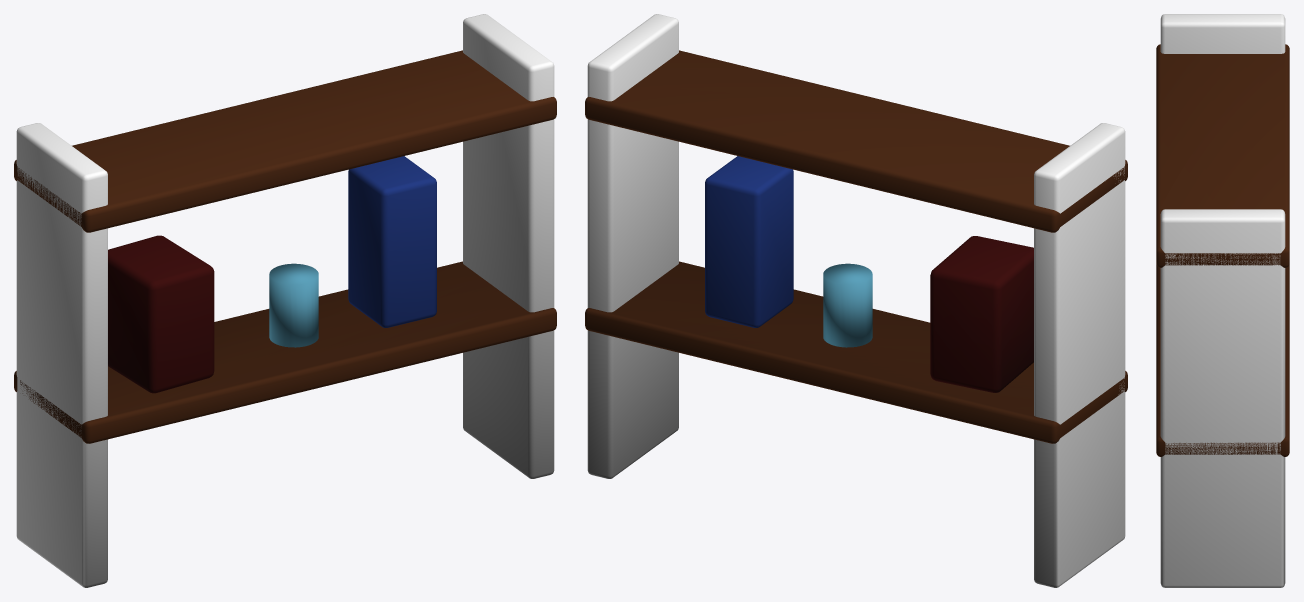
File: wooden-shelf.obj
3 views of the same model, side by side, from view 1: azimuth 30°, elevation 25°; view 2: azimuth 150°, elevation 25°; view 3: azimuth 270°, elevation 25° (orthographic). The views are drawn at different scales.
Parts seen in each view (by area): view 1: wooden-shelf; view 2: wooden-shelf; view 3: wooden-shelf.
Boxes of the visible parts, box(x1,y1,x2,y2) form: wooden-shelf: box(14, 14, 556, 587); wooden-shelf: box(585, 14, 1127, 587); wooden-shelf: box(1156, 14, 1289, 587).
Size of the model in its own units: 1.1 by 0.92 by 0.3.
